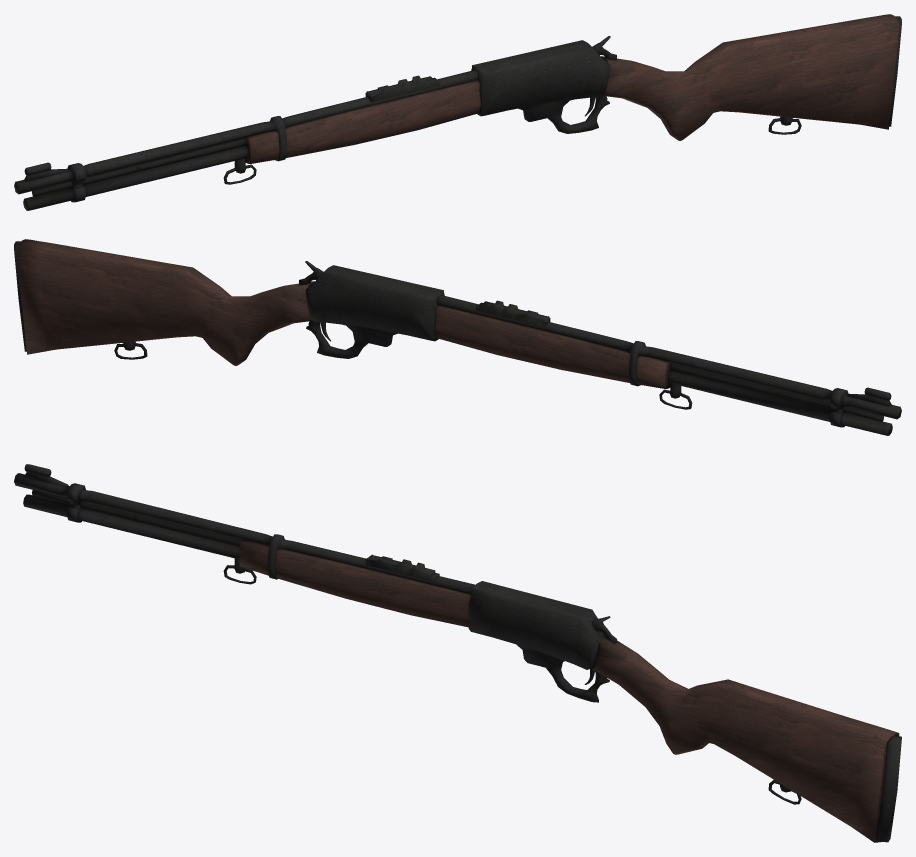
Rendered from Hunting Rifle.fbx.
3 views of the same model, one above another, from view 1: azimuth 30°, elevation 25°; view 2: azimuth 150°, elevation 25°; view 3: azimuth 330°, elevation 25° (orthographic).
Visible parts, largest first — view 1: Hunting Rifle; view 2: Hunting Rifle; view 3: Hunting Rifle.
Boxes of the visible parts, bbox=[...] form: Hunting Rifle: bbox=[14, 14, 901, 210]; Hunting Rifle: bbox=[14, 239, 901, 435]; Hunting Rifle: bbox=[14, 464, 901, 842].
Size of the model in its own units: 183 by 33.39 by 5.47.
1 material, 1 textured.
